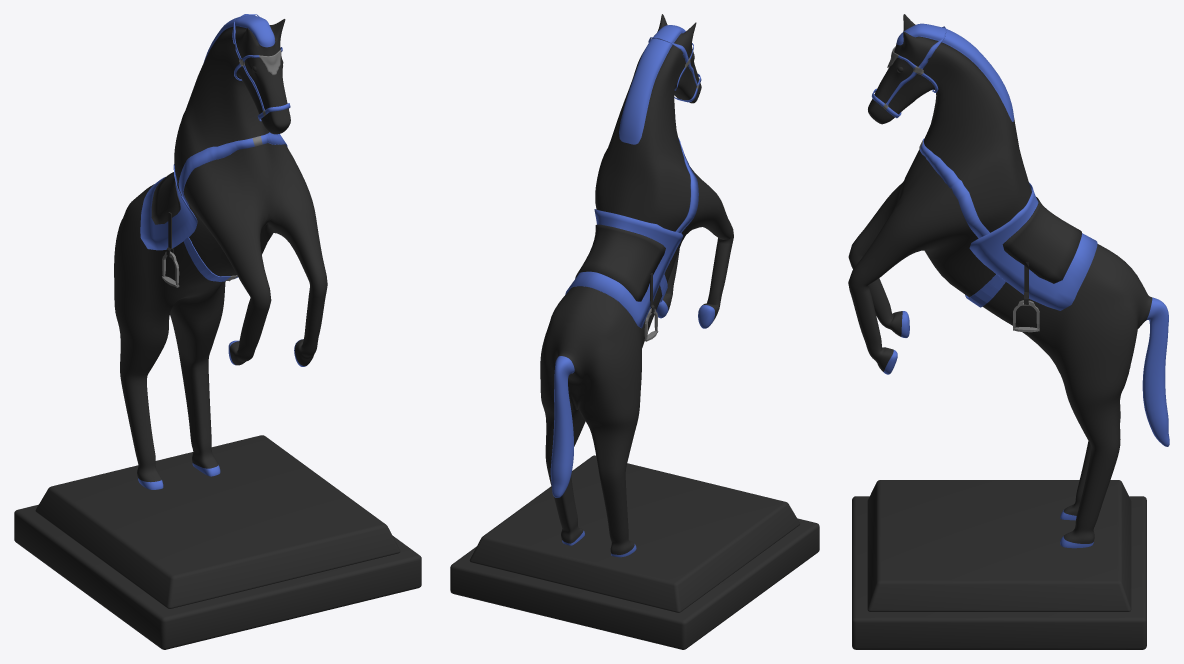
File: KnightBlack.fbx
3 renders of one model, left to right at view 1: azimuth 30°, elevation 25°; view 2: azimuth 150°, elevation 25°; view 3: azimuth 270°, elevation 25°, orthographic. The views are drawn at different scales.
Parts seen in each view (by area): view 1: Pferd, base2, base, saddle_1, saddle_belt_1, saddle_2, harness; view 2: Pferd, base2, base, saddle_2, saddle_1, saddle_belt_1; view 3: Pferd, base2, base, saddle_1, saddle_2, saddle_belt_1, harness, saddle_belt_2, stirrup_1.
Part boxes in pixels (x1=…): Pferd: x1=114, y1=15, x2=327, y2=489; base2: x1=35, y1=435, x2=400, y2=608; base: x1=14, y1=504, x2=421, y2=649; saddle_1: x1=140, y1=164, x2=197, y2=250; saddle_belt_1: x1=178, y1=132, x2=287, y2=207; saddle_2: x1=151, y1=172, x2=180, y2=224; harness: x1=232, y1=14, x2=290, y2=121; Pferd: x1=540, y1=14, x2=733, y2=557; base2: x1=469, y1=455, x2=799, y2=612; base: x1=450, y1=518, x2=819, y2=649; saddle_2: x1=575, y1=224, x2=665, y2=301; saddle_1: x1=565, y1=209, x2=682, y2=328; saddle_belt_1: x1=675, y1=138, x2=698, y2=232; Pferd: x1=848, y1=14, x2=1169, y2=548; base2: x1=867, y1=480, x2=1131, y2=611; base: x1=852, y1=496, x2=1146, y2=649; saddle_1: x1=969, y1=182, x2=1097, y2=310; saddle_2: x1=1002, y1=197, x2=1081, y2=283; saddle_belt_1: x1=919, y1=138, x2=989, y2=238; harness: x1=871, y1=26, x2=946, y2=118; saddle_belt_2: x1=965, y1=274, x2=1005, y2=307; stirrup_1: x1=1013, y1=262, x2=1039, y2=332.
Size of the model in its own units: 5 by 10.59 by 5.45.
